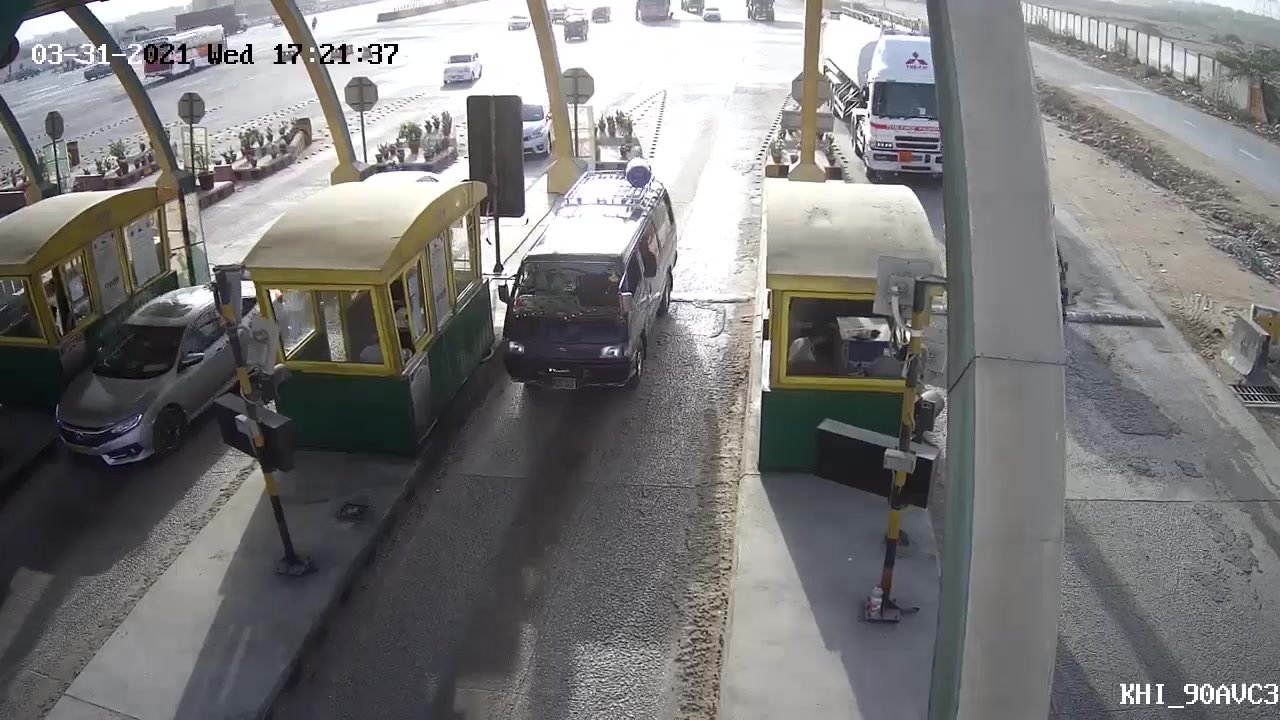F3: (496, 161, 686, 420)
